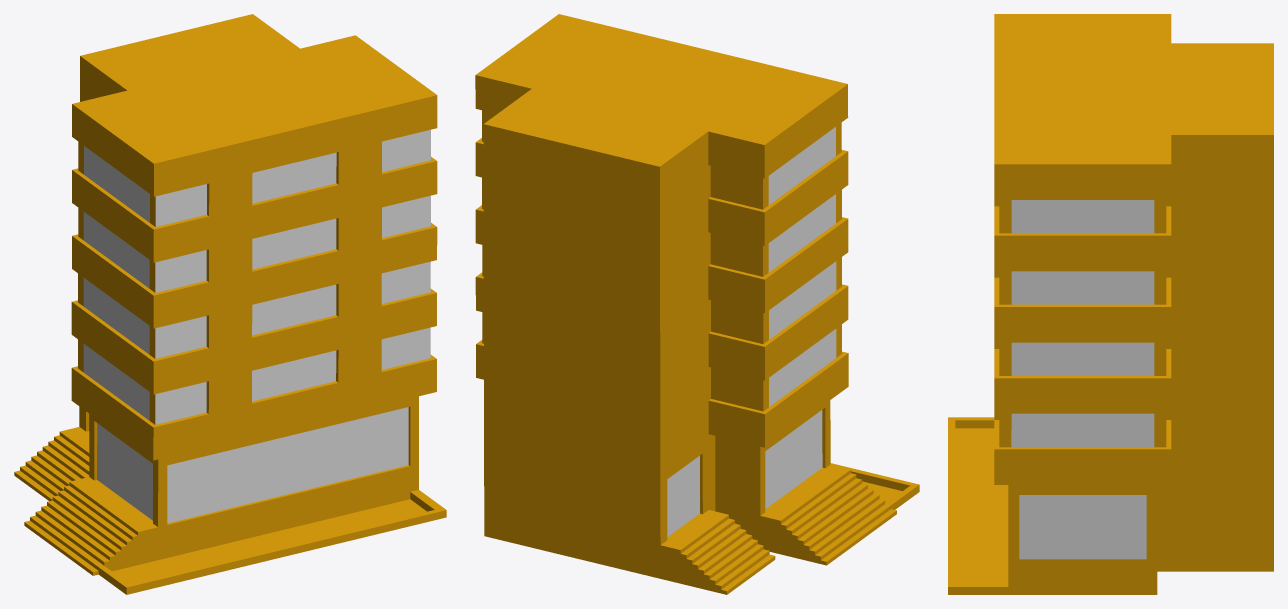
The model's file is BuildingYellow.fbx.
3 views of the same model, side by side, from view 1: azimuth 30°, elevation 25°; view 2: azimuth 150°, elevation 25°; view 3: azimuth 270°, elevation 25° (orthographic). The views are drawn at different scales.
Visible parts, largest first — view 1: polySurface1; view 2: polySurface1; view 3: polySurface1.
Part boxes in pixels (x1,y1,x2,y2): polySurface1: [14, 14, 446, 594]; polySurface1: [475, 14, 919, 594]; polySurface1: [948, 14, 1273, 594].
Bounding box in the file's own units: 9553 × 10923 × 7371.
